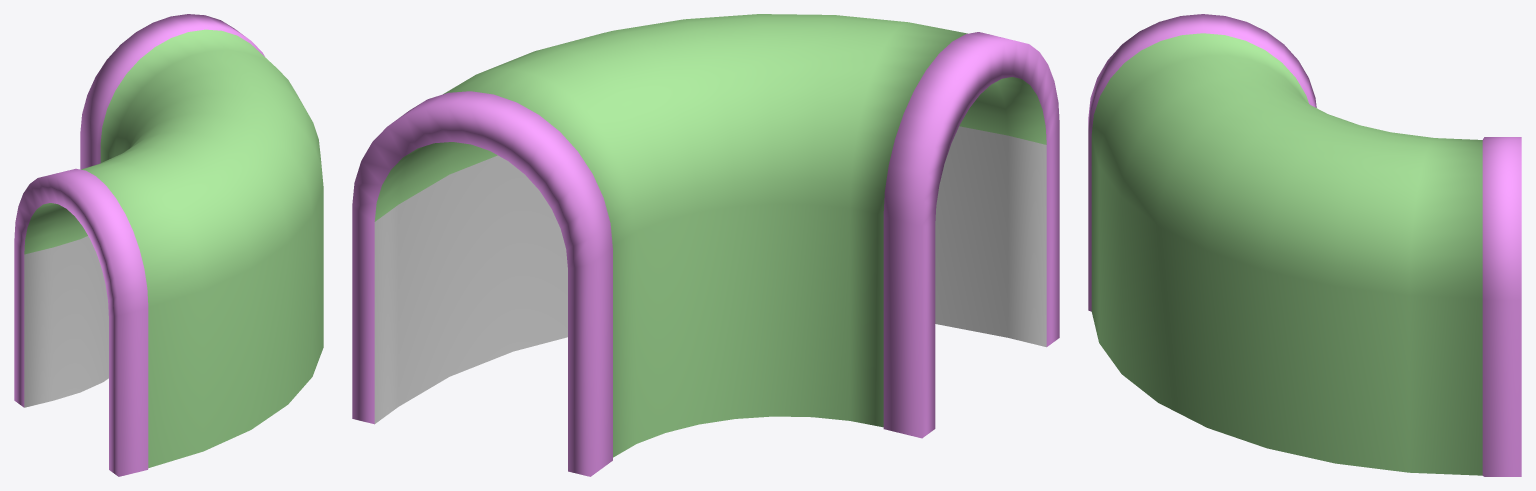
The model's file is ArchTunnel.fbx.
The picture shows the model from 3 angles, left to right: view 1: azimuth 30°, elevation 25°; view 2: azimuth 150°, elevation 25°; view 3: azimuth 270°, elevation 25°; orthographic projection. The views are drawn at different scales.
Parts seen in each view (by area): view 1: ArchTunnel; view 2: ArchTunnel; view 3: ArchTunnel.
Part boxes in pixels (left/top/right/bottom): ArchTunnel: left=14, top=14, right=323, bottom=476; ArchTunnel: left=352, top=14, right=1059, bottom=476; ArchTunnel: left=1088, top=14, right=1521, bottom=476.
Size of the model in its own units: 4.63 by 3.33 by 4.66.
